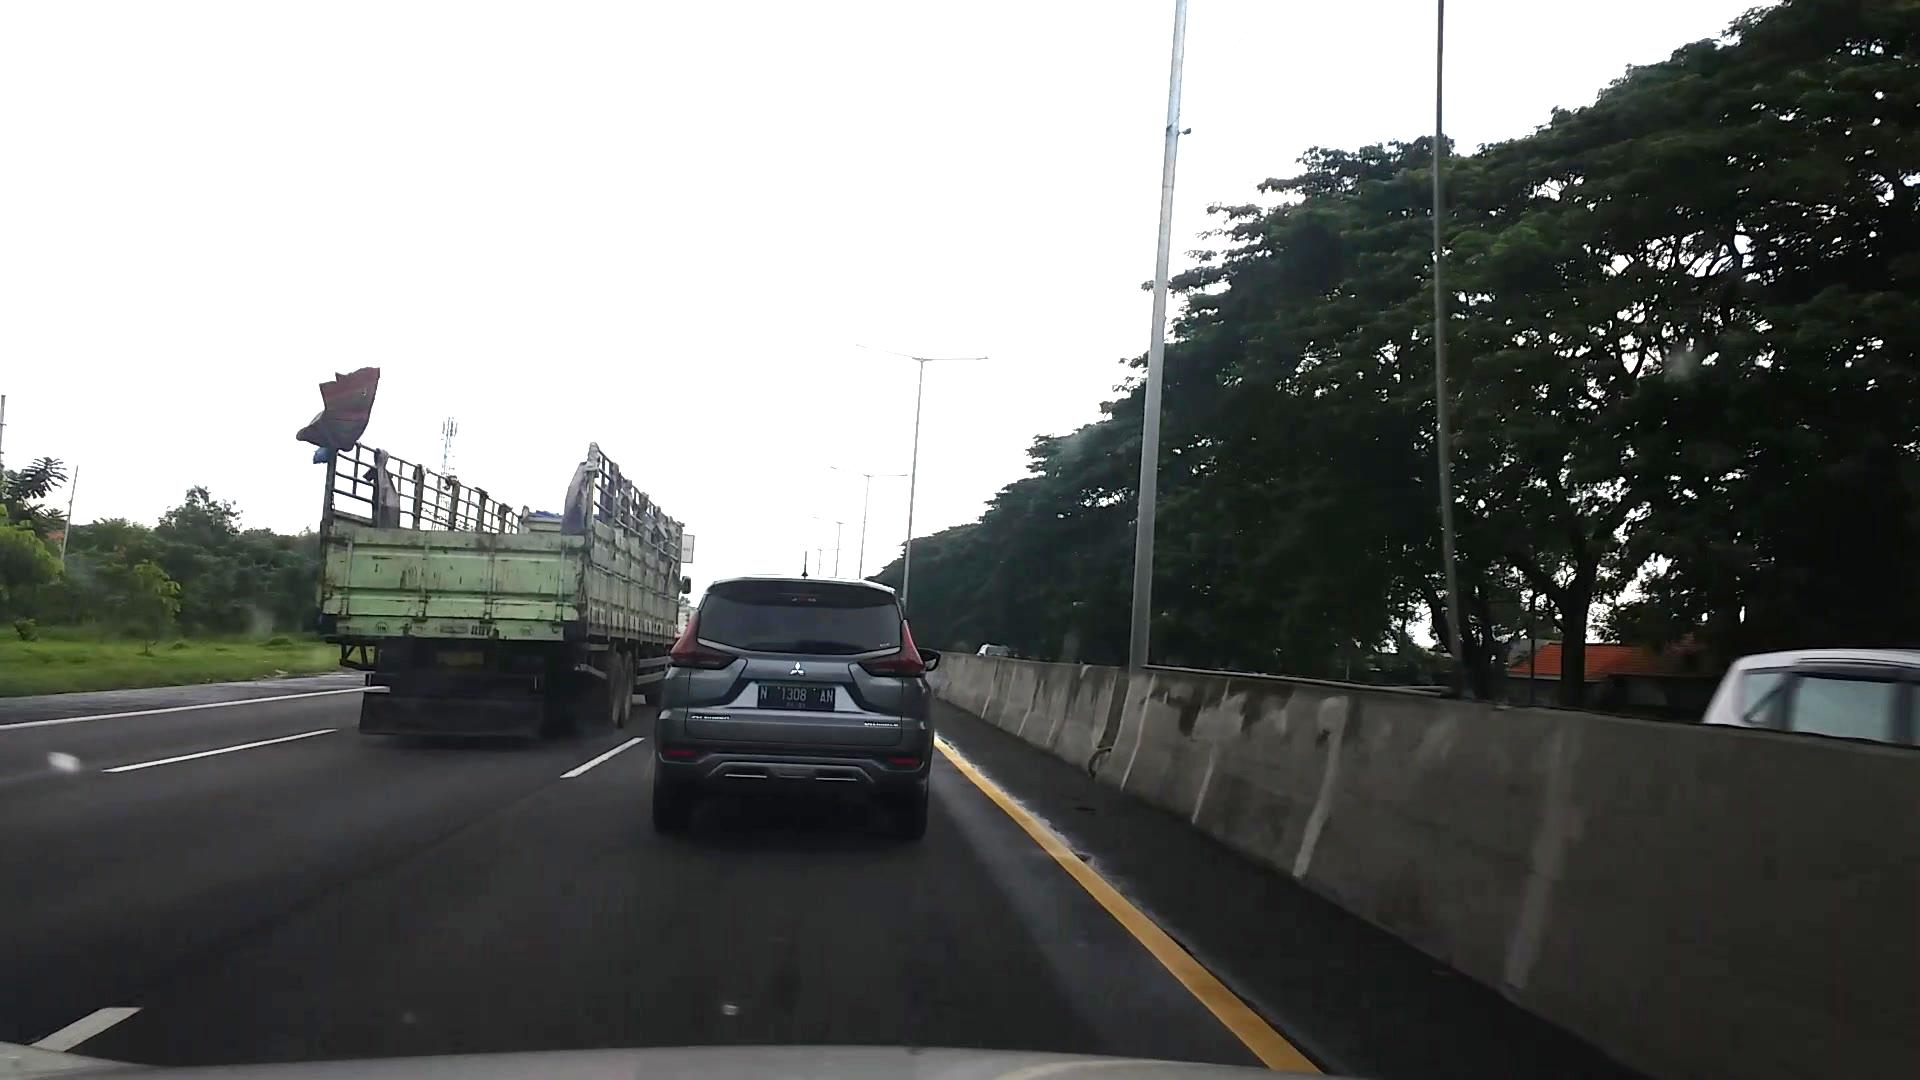plate_positive: (758, 684, 835, 711)
